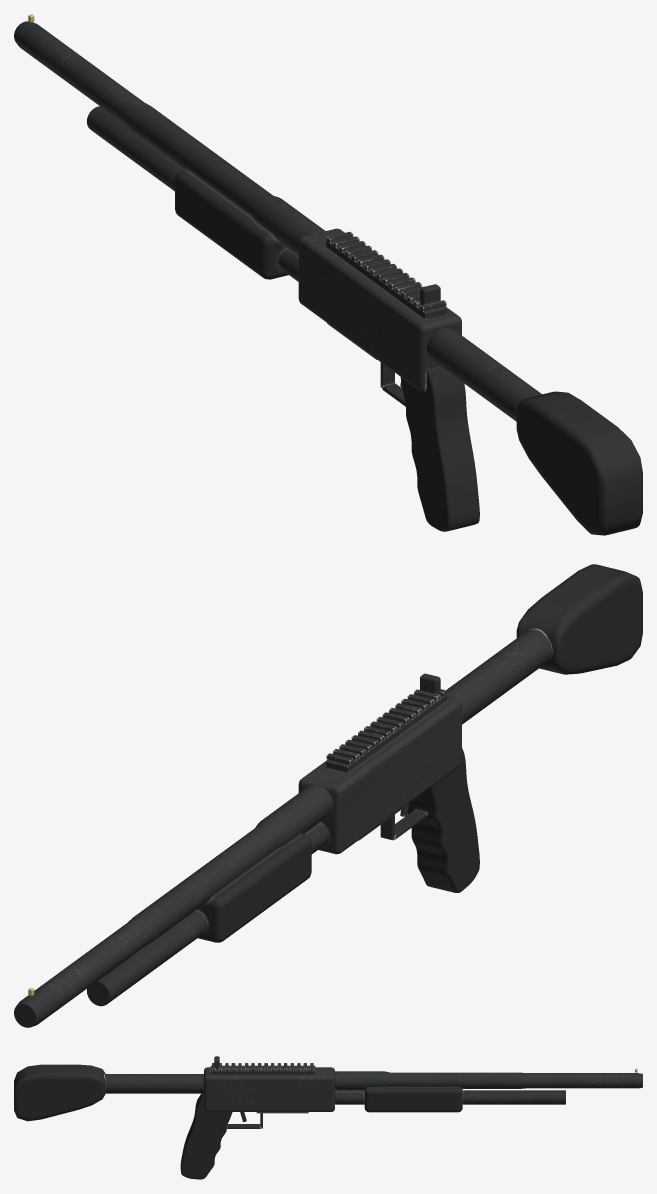
The picture shows the model from 3 angles, top to bottom: view 1: azimuth 30°, elevation 25°; view 2: azimuth 150°, elevation 25°; view 3: azimuth 270°, elevation 25°; orthographic projection. The views are drawn at different scales.
Visible parts, largest first — view 1: Frame, Stock; view 2: Frame, Stock; view 3: Frame, Stock.
Boxes of the visible parts, x1,y1,x2,y2 form: Frame: [14, 14, 479, 531]; Stock: [427, 327, 642, 535]; Frame: [14, 673, 479, 1027]; Stock: [446, 564, 642, 724]; Frame: [180, 1056, 642, 1179]; Stock: [14, 1064, 203, 1121].
Size of the model in its own units: 0.046 by 0.1982 by 0.96.
5 materials, 5 textured.
